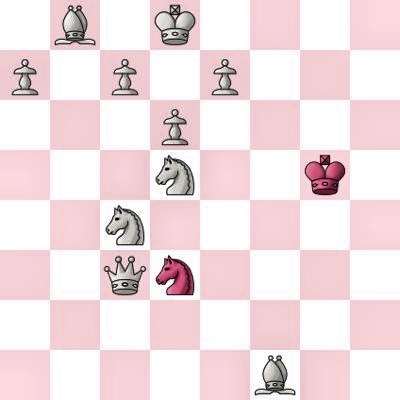black-king: (300, 150, 350, 200)
black-knight: (150, 250, 200, 300)
white-bishop: (50, 0, 100, 50), (250, 350, 300, 400)
white-king: (150, 0, 200, 50)
white-knight: (150, 150, 200, 200), (100, 200, 150, 250)
white-pawn: (0, 50, 50, 100), (100, 50, 150, 100), (200, 50, 250, 100), (150, 100, 200, 150)
white-queen: (100, 250, 150, 300)
